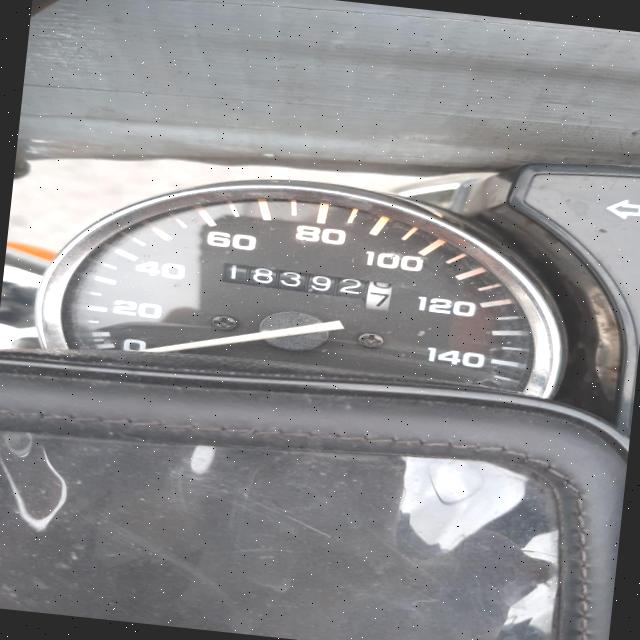odometer: (213, 258, 397, 313)
